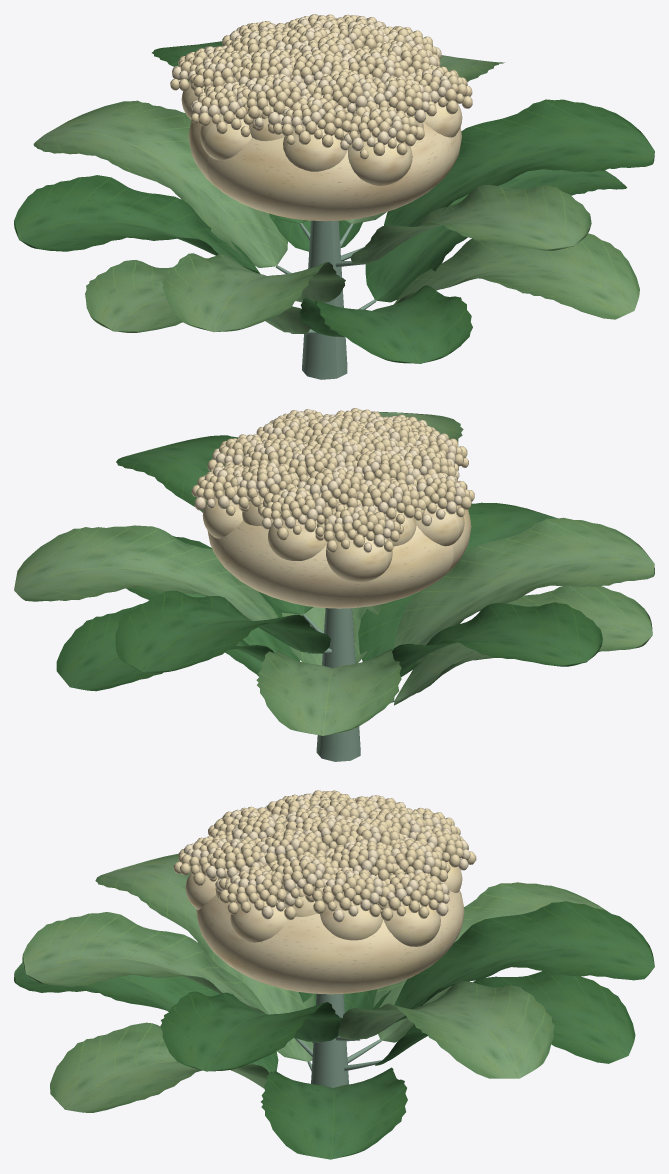
Rendered from cauliflower-default.glb.
The picture shows the model from 3 angles, top to bottom: view 1: azimuth 30°, elevation 25°; view 2: azimuth 150°, elevation 25°; view 3: azimuth 270°, elevation 25°; orthographic projection. The views are drawn at different scales.
Parts seen in each view (by area): view 1: Cauliflower · Default; view 2: Cauliflower · Default; view 3: Cauliflower · Default.
Part boxes in pixels (<box>): Cauliflower · Default: <box>14,14,654,379</box>; Cauliflower · Default: <box>14,408,654,761</box>; Cauliflower · Default: <box>14,790,654,1159</box>.
Bounding box in the file's own units: 0.6283 × 0.3426 × 0.6216.
Materials: 5 (4 with a texture image).
